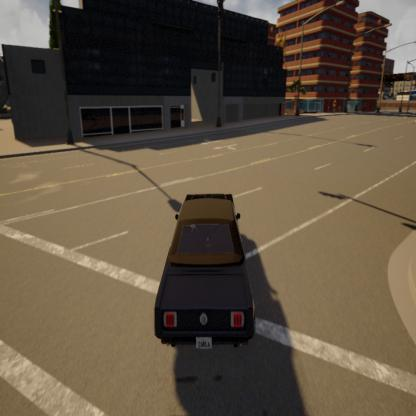Cars: (150, 164, 259, 381)
